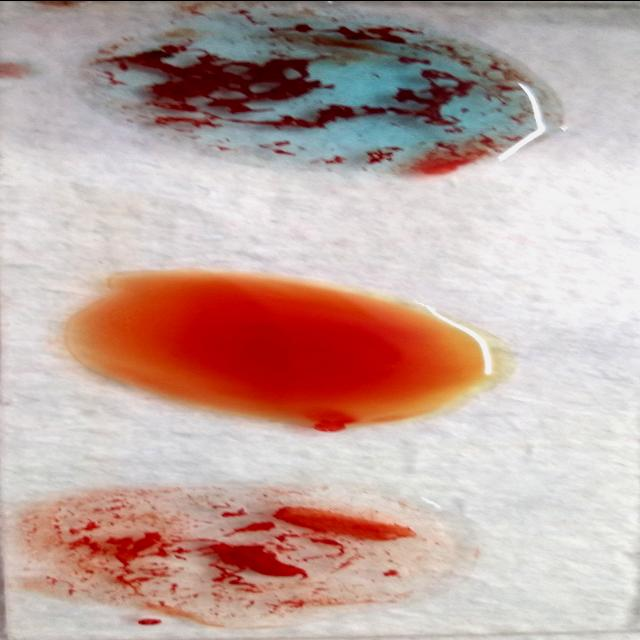A: (70, 22, 560, 164)
D: (13, 484, 457, 612)
